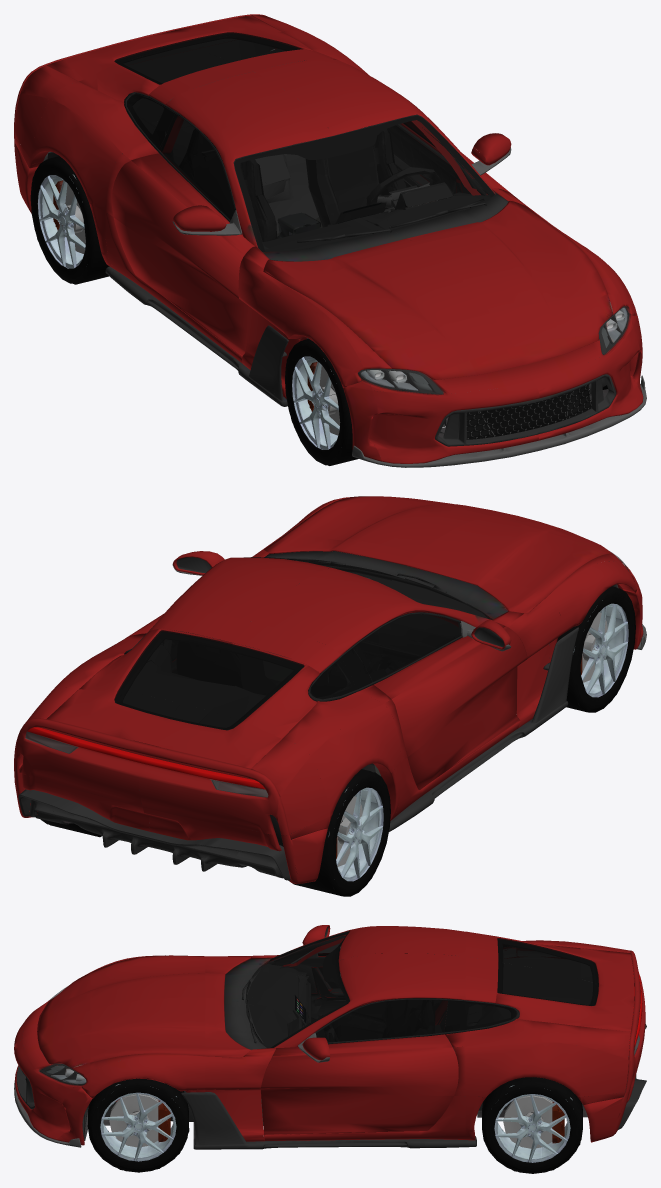
The model's file is sport-coupe.glb.
The picture shows the model from 3 angles, top to bottom: view 1: azimuth 30°, elevation 25°; view 2: azimuth 150°, elevation 25°; view 3: azimuth 270°, elevation 25°; orthographic projection. The views are drawn at different scales.
Parts seen in each view (by area): view 1: roof, door.R, glass.front, cockpit, nose.R, nose.L, door.L, wheel.rear.R, wheel.front.R, glass.rear, tail.R, tail.L (+2 smaller); view 2: roof, door.R, tail.R, tail.L, cockpit, glass.rear, door.L, wheel.rear.R, wheel.front.R, deck, glass.front, nose.R (+2 smaller); view 3: door.L, roof, cockpit, glass.front, wheel.rear.L, wheel.front.L, nose.L, door.R, glass.rear, tail.L, tail.R, nose.R (+4 smaller).
Part boxes in pixels (bbox=[...]): roof: bbox=[19, 15, 621, 393]; door.R: bbox=[14, 94, 490, 400]; glass.front: bbox=[234, 116, 633, 392]; cockpit: bbox=[124, 39, 496, 251]; nose.R: bbox=[343, 313, 539, 467]; nose.L: bbox=[491, 294, 646, 450]; door.L: bbox=[333, 47, 636, 315]; wheel.rear.R: bbox=[30, 156, 109, 284]; wheel.front.R: bbox=[285, 338, 360, 465]; glass.rear: bbox=[114, 32, 302, 84]; tail.R: bbox=[14, 36, 171, 213]; tail.L: bbox=[144, 14, 281, 48]; roof: bbox=[25, 497, 620, 796]; door.R: bbox=[277, 516, 637, 835]; tail.R: bbox=[139, 718, 330, 884]; tail.L: bbox=[14, 689, 171, 854]; cockpit: bbox=[123, 560, 488, 790]; glass.rear: bbox=[27, 630, 304, 789]; door.L: bbox=[14, 496, 490, 770]; wheel.rear.R: bbox=[289, 769, 390, 896]; wheel.front.R: bbox=[557, 584, 635, 712]; deck: bbox=[119, 626, 358, 722]; glass.front: bbox=[244, 551, 631, 619]; nose.R: bbox=[492, 514, 646, 649]; door.L: bbox=[81, 997, 632, 1149]; roof: bbox=[22, 925, 630, 1095]; cockpit: bbox=[246, 935, 592, 1124]; glass.front: bbox=[39, 932, 349, 1089]; wheel.rear.L: bbox=[482, 1077, 582, 1173]; wheel.front.L: bbox=[83, 1068, 189, 1172]; nose.L: bbox=[14, 1010, 92, 1147]; door.R: bbox=[90, 940, 563, 1024]; glass.rear: bbox=[497, 938, 642, 1050]; tail.L: bbox=[580, 984, 646, 1142]; tail.R: bbox=[580, 948, 646, 1057]; nose.R: bbox=[14, 973, 90, 1089].
Size of the model in its own units: 2.26 by 1.35 by 4.7.
Materials: 19 (7 with a texture image).
